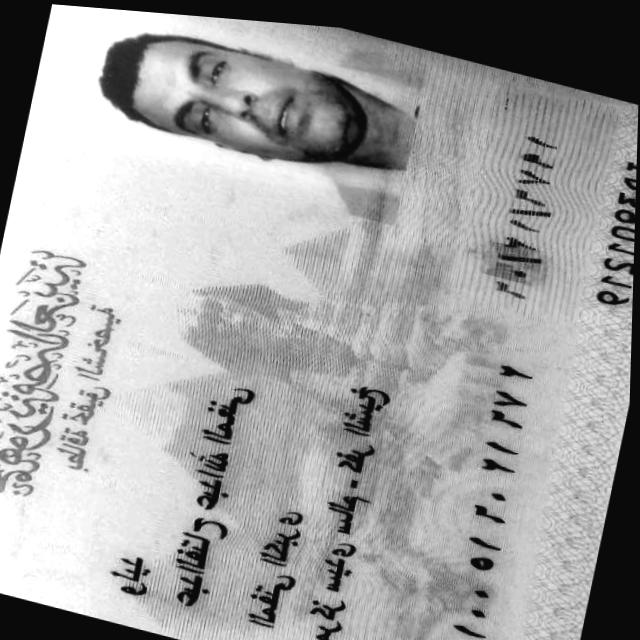id_card: (0, 4, 638, 640)
